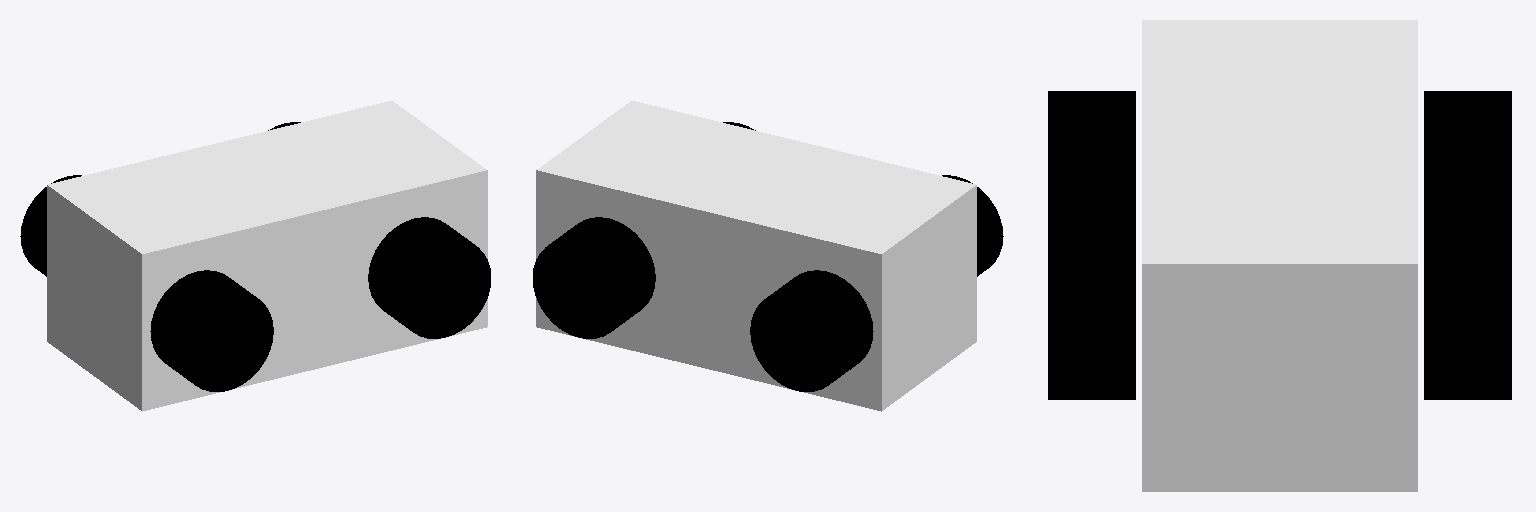
The robot description file, URDF, robot "wheeltec_robot":
<?xml version="1.0" ?>
<robot name="wheeltec_robot">

    <link name="base_link">
        <visual>
            <origin xyz=" 0.08 0 0.03" rpy="0 0 0" />
            <geometry>
                <box size="0.23 0.11 0.100"/>
            </geometry>
            <material name="white">
                <color rgba="255 255 1 1"/>
            </material>
        </visual>
    </link>   

    <joint name="left_wheel_joint" type="continuous">
        <origin xyz="-0 0.075 0.031" rpy="1.57 0 0"/>
        <parent link="base_link"/>
        <child link="left_wheel_link"/>
        <axis xyz="0 1 0"/>
    </joint>

    <link name="left_wheel_link">
        <visual>
            <origin xyz="0 0 0" rpy="0 0 0" />
            <geometry>
                <cylinder radius="0.031" length = "0.035"/>
            </geometry>
            <material name="black">
                <color rgba="0 0 0 1"/>
            </material>
        </visual>
    </link>

    <joint name="right_wheel_joint" type="continuous">
        <origin xyz="-0 -0.075 0.031" rpy="1.57 0 0"/>
        <parent link="base_link"/>
        <child link="right_wheel_link"/>
        <axis xyz="0 1 0"/>
    </joint>

    <link name="right_wheel_link">
        <visual>
            <origin xyz="0 0 0" rpy="0 0 0" />
            <geometry>
                <cylinder radius="0.031" length = "0.035"/>
            </geometry>
            <material name="black">
                <color rgba="0 0 0 1"/>
            </material>
        </visual>
    </link>

      <joint name="left_front_joint" type="continuous">
        <origin xyz="0.145 0.075 0.031" rpy="1.57 0 0"/>
        <parent link="base_link"/>
        <child link="left_front_link"/>
        <axis xyz="0 1 0"/>
    </joint>

    <link name="left_front_link">
        <visual>
            <origin xyz="0 0 0" rpy="0 0 0" />
            <geometry>
                <cylinder radius="0.031" length = "0.035"/>
            </geometry>
            <material name="black">
                <color rgba="0 0 0 1"/>
            </material>
        </visual>
    </link>

    <joint name="right_front_joint" type="continuous">
        <origin xyz="0.145 -0.075 0.031" rpy="1.57 0 0"/>
        <parent link="base_link"/>
        <child link="right_front_link"/>
        <axis xyz="0 1 0"/>
    </joint>

    <link name="right_front_link">
        <visual>
            <origin xyz="0 0 0" rpy="0 0 0" />
            <geometry>
                <cylinder radius="0.031" length = "0.035"/>
            </geometry>
            <material name="black">
                <color rgba="0 0 0 1"/>
            </material>
        </visual>
    </link>


</robot>

--- Facts derived from the render (not from the file) ---
Views: 3 orthographic renders of the robot side by side, from view 1: azimuth 30°, elevation 25°; view 2: azimuth 150°, elevation 25°; view 3: azimuth 270°, elevation 25°.
Model wheeltec_robot with 5 links and 4 joints (4 continuous), rooted at base_link, posed every joint at zero.
Visible links, largest first — view 1: base_link, right_wheel_link, right_front_link, left_wheel_link; view 2: base_link, left_wheel_link, left_front_link, right_wheel_link; view 3: base_link, left_front_link, right_front_link, left_wheel_link, right_wheel_link.
Link boxes in pixels (x1,y1,x2,y2): base_link: [47, 101, 487, 411]; right_wheel_link: [150, 270, 273, 391]; right_front_link: [368, 217, 490, 338]; left_wheel_link: [20, 175, 81, 276]; base_link: [536, 101, 976, 411]; left_wheel_link: [750, 270, 873, 391]; left_front_link: [533, 217, 655, 338]; right_wheel_link: [942, 175, 1003, 276]; base_link: [1142, 20, 1417, 491]; left_front_link: [1424, 245, 1511, 399]; right_front_link: [1048, 245, 1135, 399]; left_wheel_link: [1424, 91, 1511, 244]; right_wheel_link: [1048, 91, 1135, 244].
Size in the robot's own frame: 0.23 by 0.185 by 0.1 metres.
Geometry: primitives only (box / cylinder / sphere), no mesh files.
